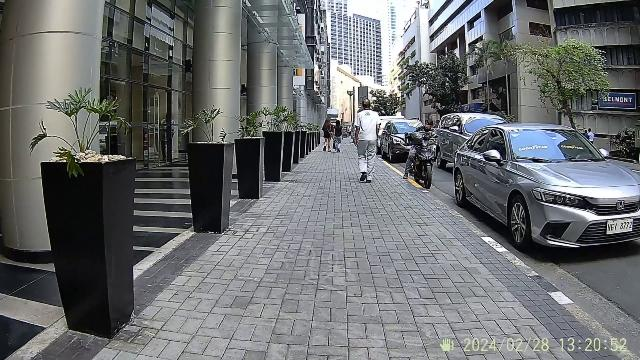motorcycle: (408, 132, 439, 190)
potted_plant: (36, 96, 140, 334), (182, 110, 234, 236), (236, 114, 264, 202), (262, 111, 288, 185)
